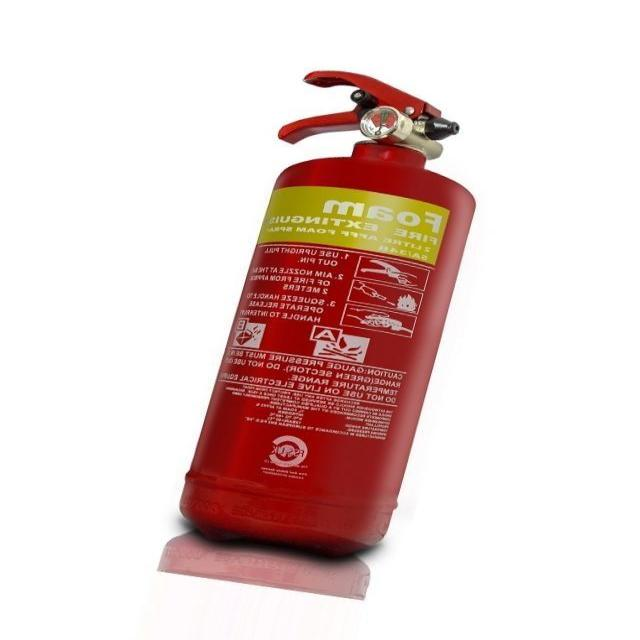fire_extinguisher: (168, 65, 483, 563)
